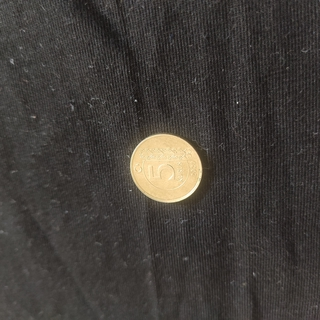5KURUS: (128, 130, 204, 205)
